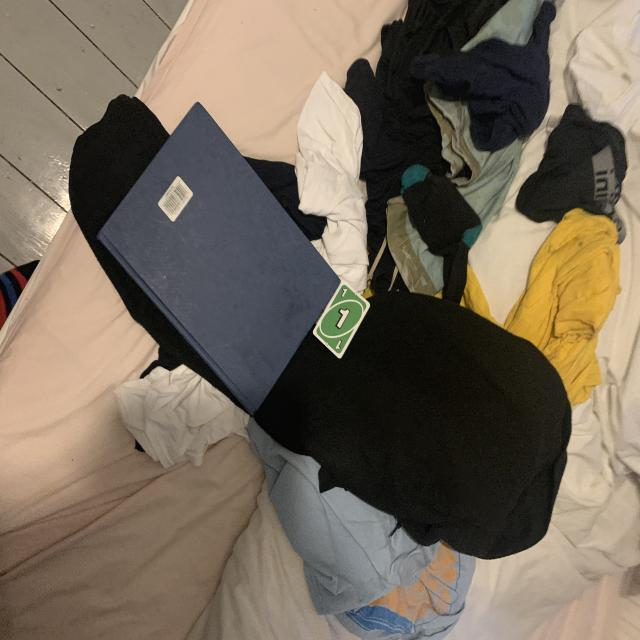lgreen-1: (338, 286, 350, 300)
